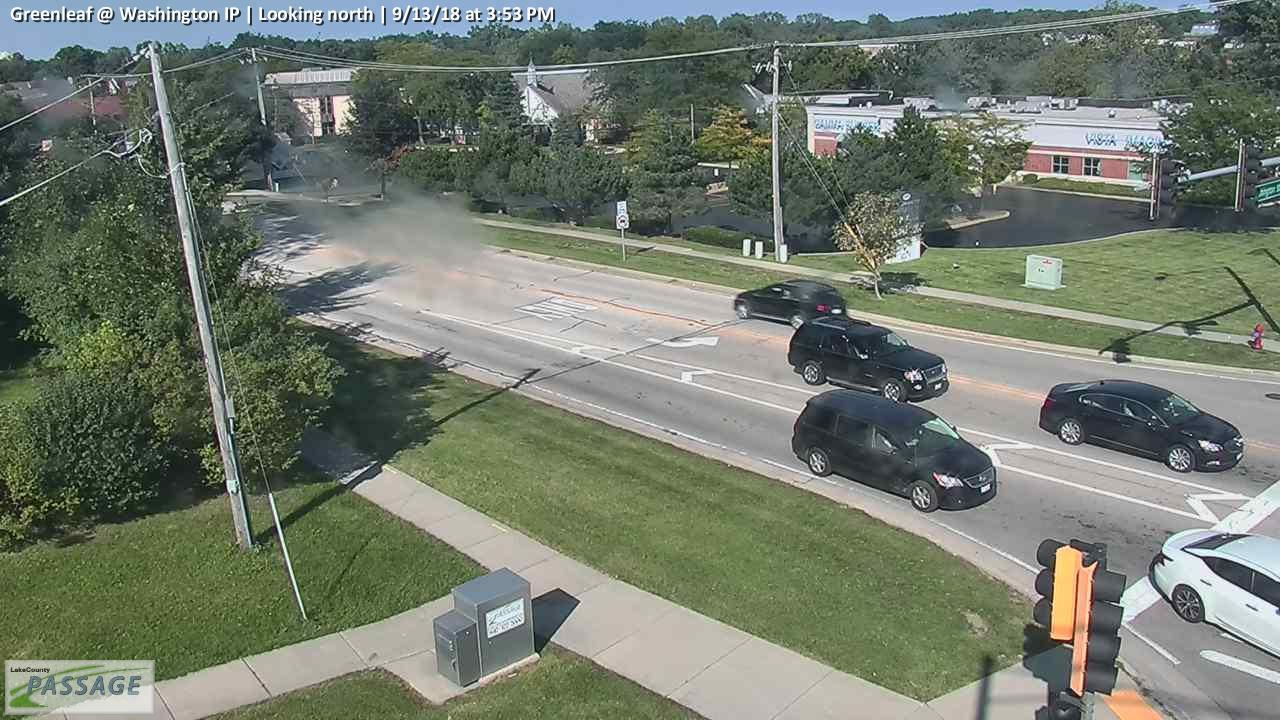SUV: (789, 386, 997, 513), (786, 314, 951, 404)
Sedan: (1037, 377, 1243, 473), (1150, 526, 1280, 658), (734, 277, 847, 329)
